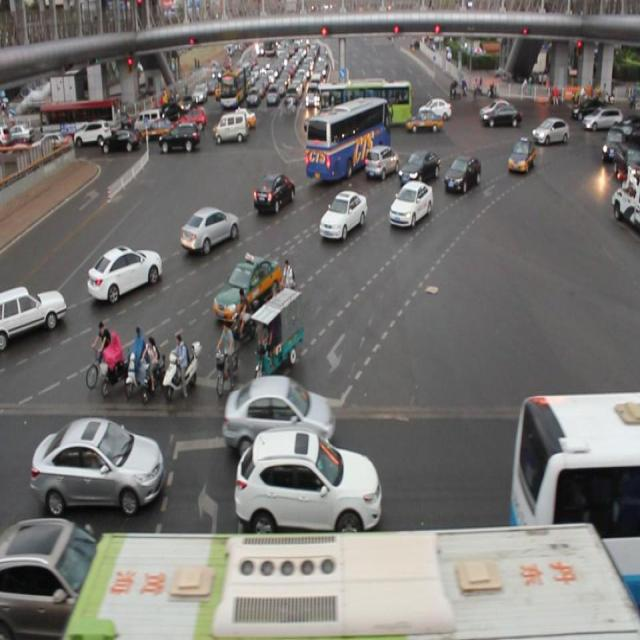car: (235, 427, 382, 529), (0, 516, 111, 640), (31, 418, 166, 516), (220, 372, 334, 454), (535, 410, 605, 524), (1, 278, 68, 353), (89, 242, 162, 306), (212, 252, 279, 318), (180, 203, 240, 254), (318, 191, 367, 244), (389, 180, 432, 227), (252, 172, 296, 217), (398, 148, 441, 186), (442, 150, 479, 194), (366, 145, 399, 180), (507, 138, 535, 176), (531, 117, 568, 144)
van: (60, 525, 640, 640), (510, 386, 640, 604), (306, 97, 392, 185)
